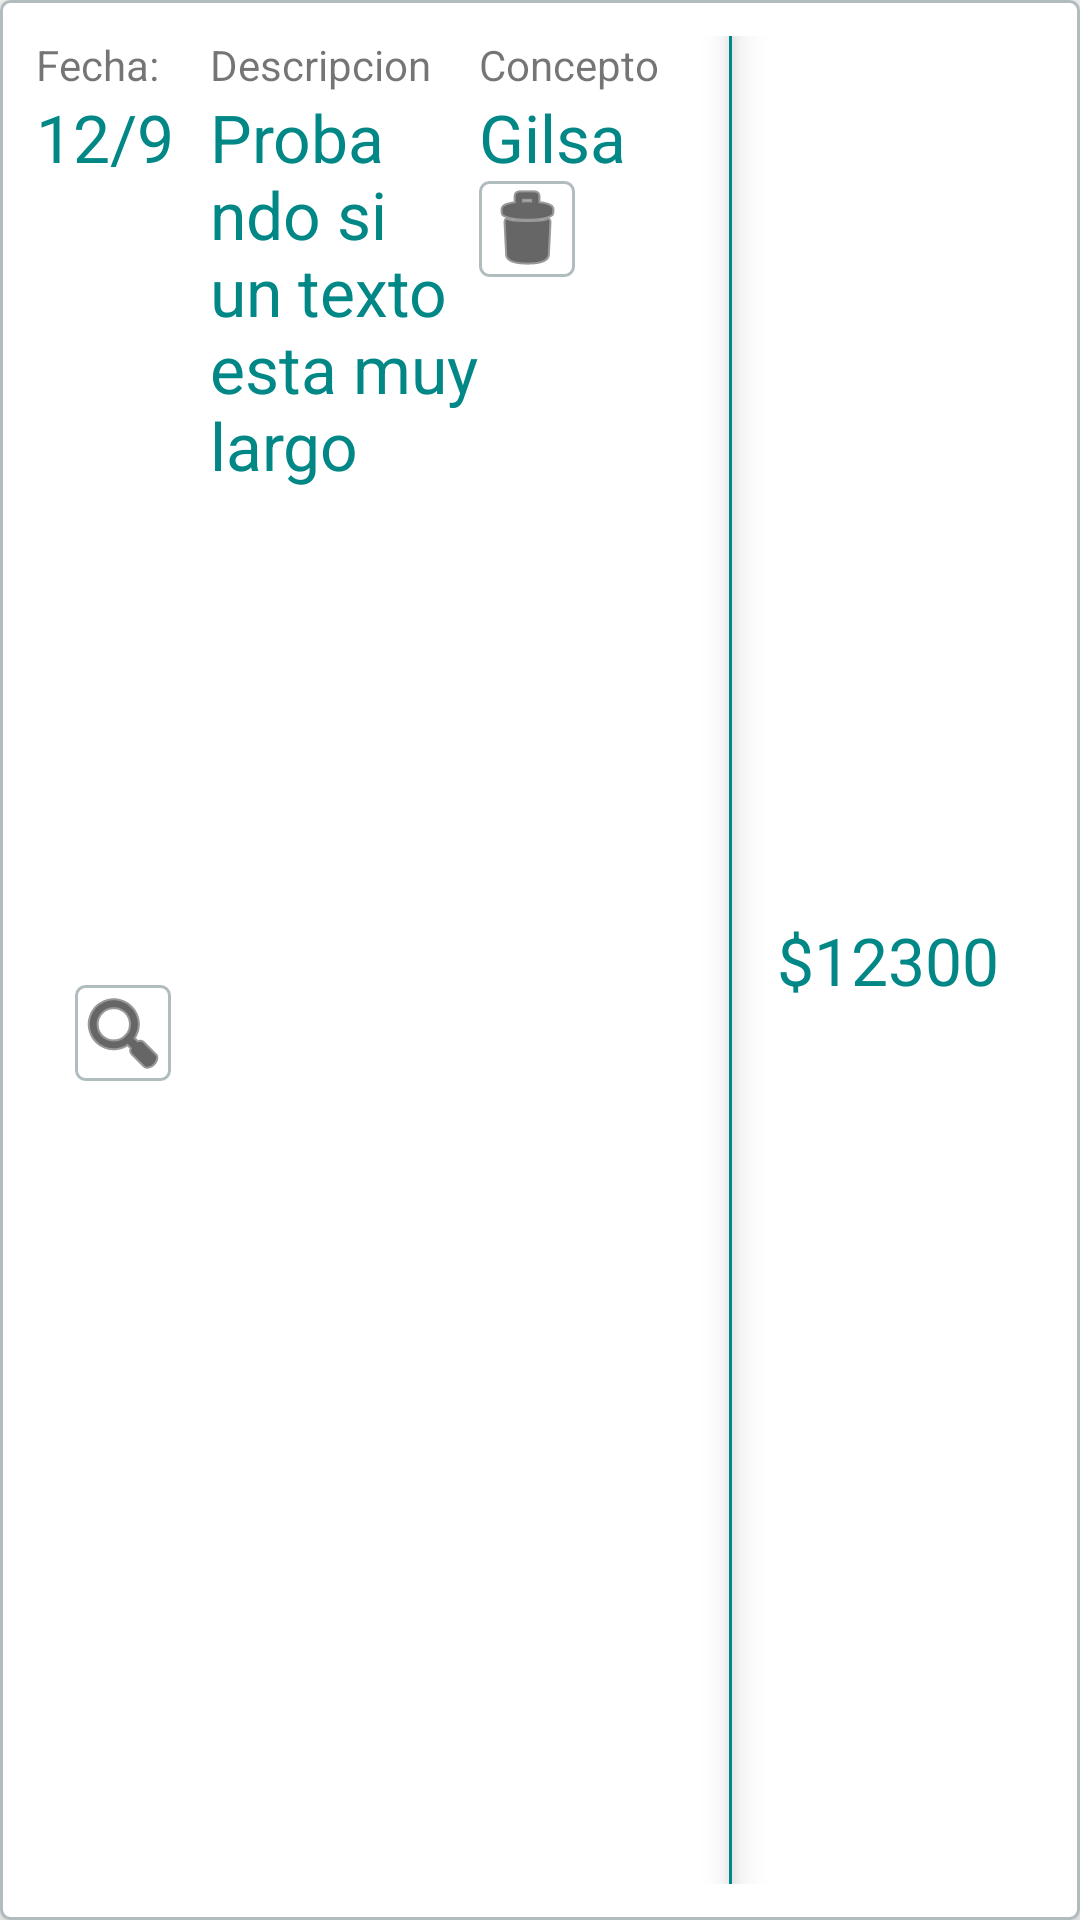

Icon bounding boxes for this 1080w x 1920h phone screenshot, format (x1, y1, x2, y2):
delete: (479, 181, 575, 277)
search: (75, 985, 171, 1081)
